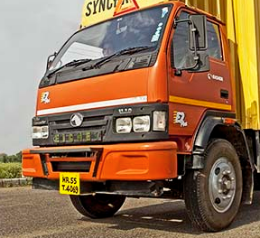truck: (15, 1, 259, 234)
